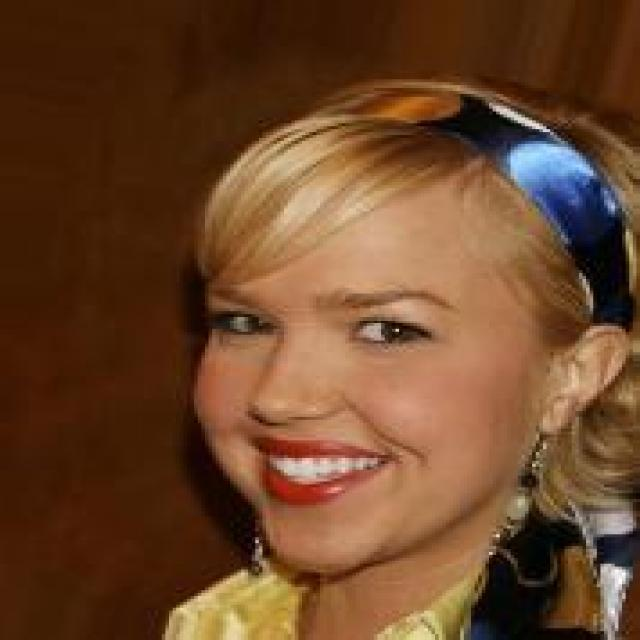nomask: (137, 56, 582, 581)
